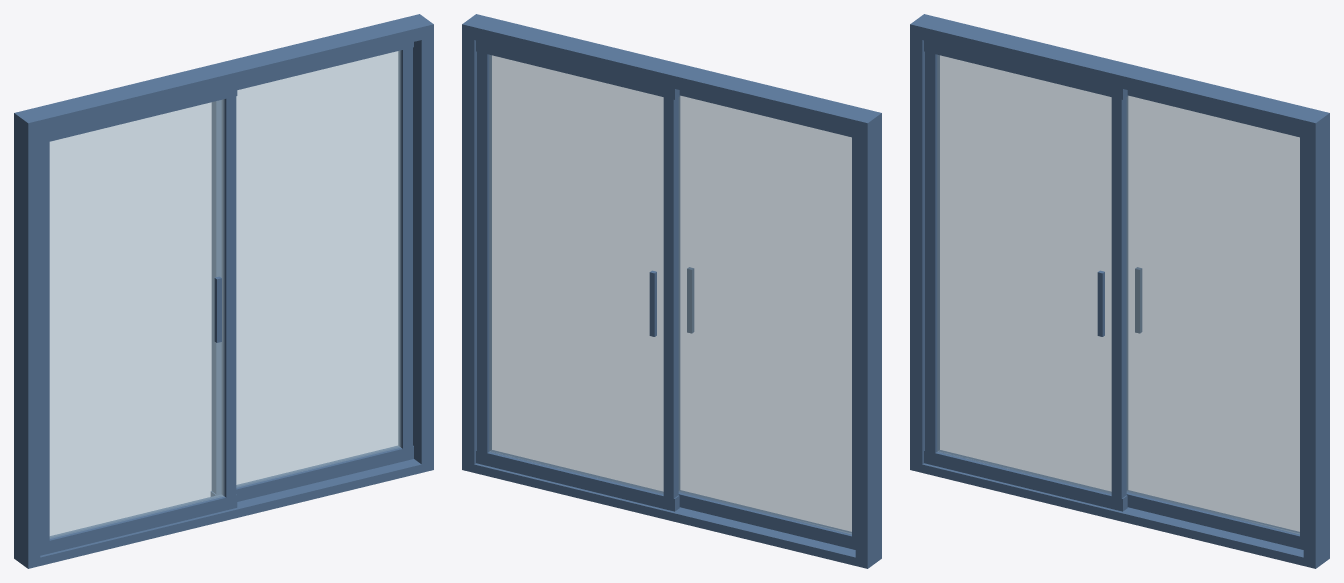
Rendered from Door_SlidingGlass.fbx.
3 renders of one model, left to right at view 1: azimuth 30°, elevation 25°; view 2: azimuth 150°, elevation 25°; view 3: azimuth 330°, elevation 25°, orthographic.
Visible parts, largest first — view 1: Door_SlidingGlass; view 2: Door_SlidingGlass; view 3: Door_SlidingGlass.
Boxes of the visible parts, bbox=[...] form: Door_SlidingGlass: bbox=[14, 14, 433, 568]; Door_SlidingGlass: bbox=[462, 14, 881, 568]; Door_SlidingGlass: bbox=[910, 14, 1329, 568].
Bounding box in the file's own units: 2 × 2.1 × 0.13.
Materials: 2 (1 with a texture image).
